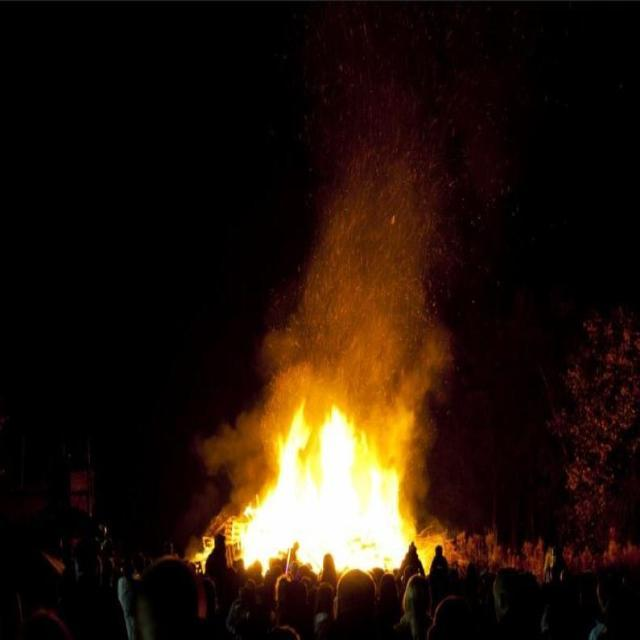Fire: (233, 396, 433, 578), (192, 537, 216, 575)
Smoke: (178, 178, 458, 558)
